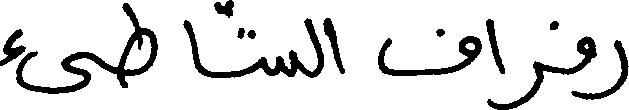X: (0, 24, 90, 98), (379, 24, 480, 80), (120, 0, 155, 92), (598, 35, 628, 103), (506, 56, 543, 109), (487, 14, 504, 109), (577, 31, 596, 104), (325, 13, 343, 78), (264, 45, 295, 81), (306, 13, 320, 82), (185, 15, 199, 77)
